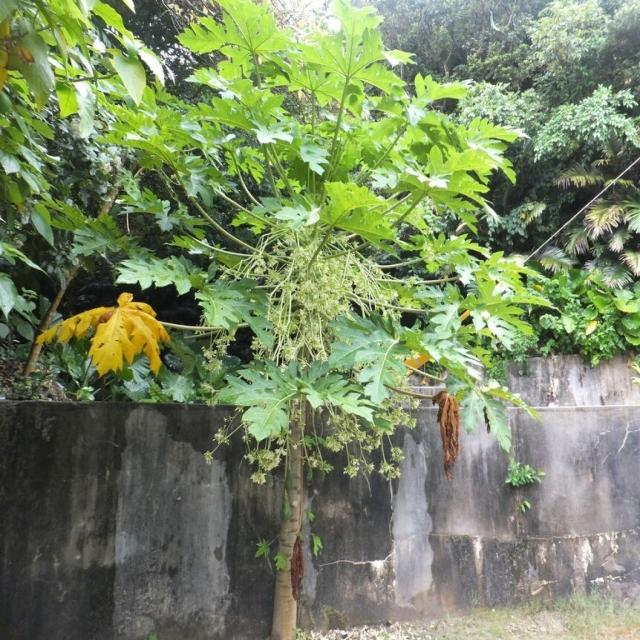Papaya-Tree: (123, 28, 550, 640)
